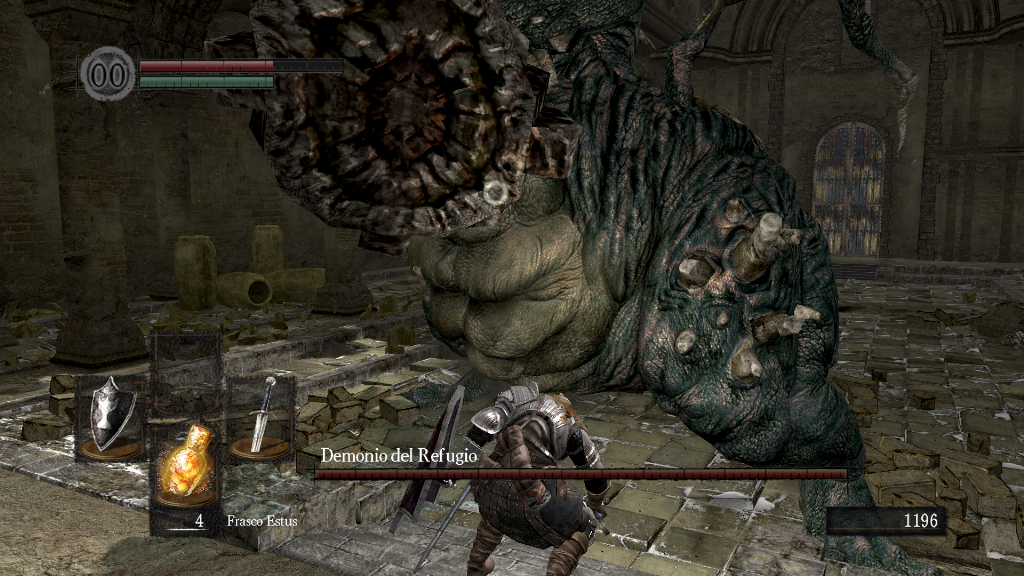asylumDemon: (217, 1, 948, 574)
bossHP: (314, 469, 847, 479)
health: (138, 58, 343, 71)
humanity: (80, 45, 136, 102)
player: (395, 383, 611, 576)
souls: (825, 506, 945, 536)
stamina: (138, 74, 274, 88)
